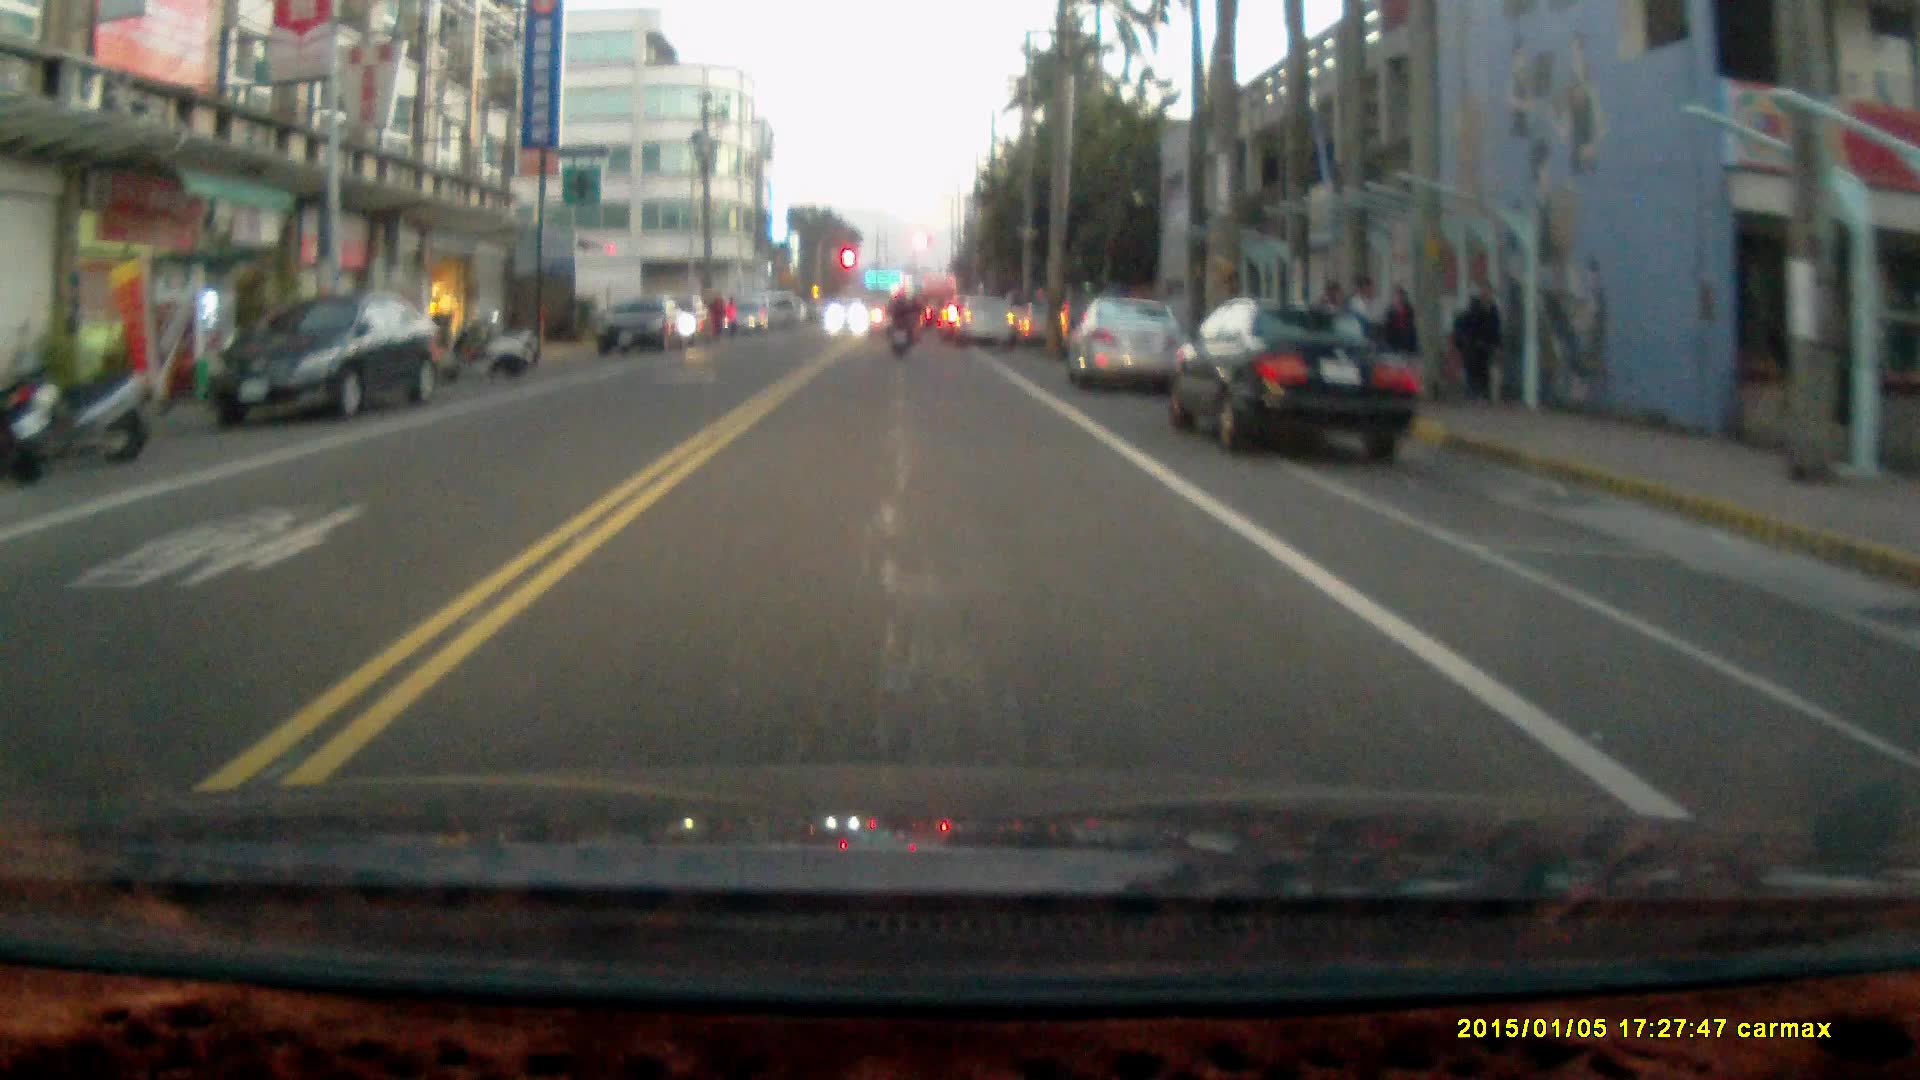pedestrian: (1450, 278, 1504, 403), (1373, 283, 1422, 390), (1344, 273, 1385, 383)
rider: (884, 285, 912, 354)
vehicle: (1164, 291, 1423, 463), (207, 288, 448, 424), (1069, 293, 1193, 395), (595, 295, 696, 355), (964, 300, 1022, 354)
